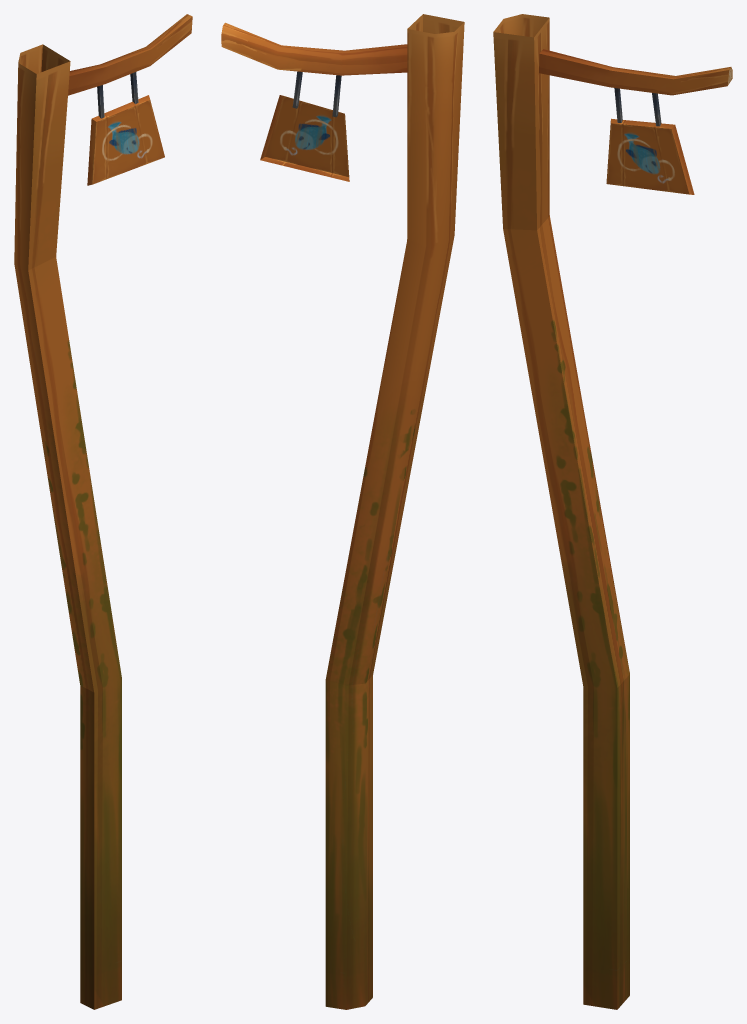
File: port_sign.fbx
3 renders of one model, left to right at view 1: azimuth 30°, elevation 25°; view 2: azimuth 150°, elevation 25°; view 3: azimuth 330°, elevation 25°, orthographic.
Parts seen in each view (by area): view 1: Poste_carte1; view 2: Poste_carte1; view 3: Poste_carte1.
Part boxes in pixels (x1,y1,x2,y2): Poste_carte1: [14, 14, 192, 1009]; Poste_carte1: [221, 14, 464, 1009]; Poste_carte1: [493, 14, 732, 1009].
Bounding box in the file's own units: 2058 × 9539 × 864.
